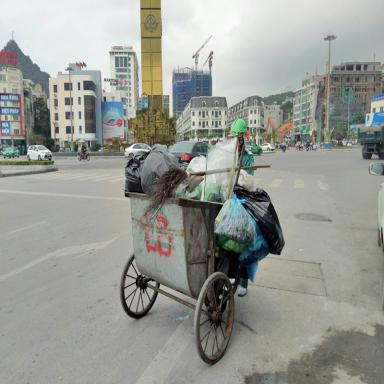plasticbag: (203, 181, 297, 260), (185, 138, 238, 212), (134, 141, 179, 198)
